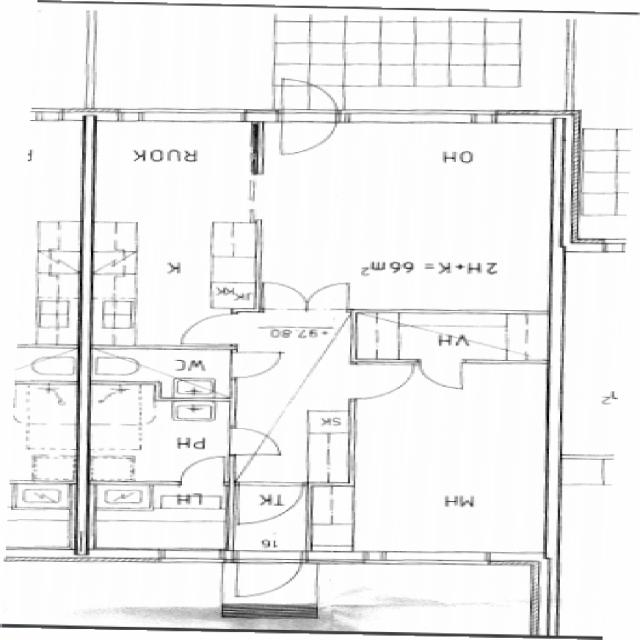door: (238, 550, 302, 606), (278, 108, 338, 157), (278, 73, 338, 121), (241, 482, 301, 522), (351, 365, 414, 399), (183, 314, 237, 343), (231, 429, 281, 455), (181, 458, 224, 487), (231, 353, 279, 378), (267, 284, 307, 312), (307, 284, 346, 312), (423, 359, 462, 386)
